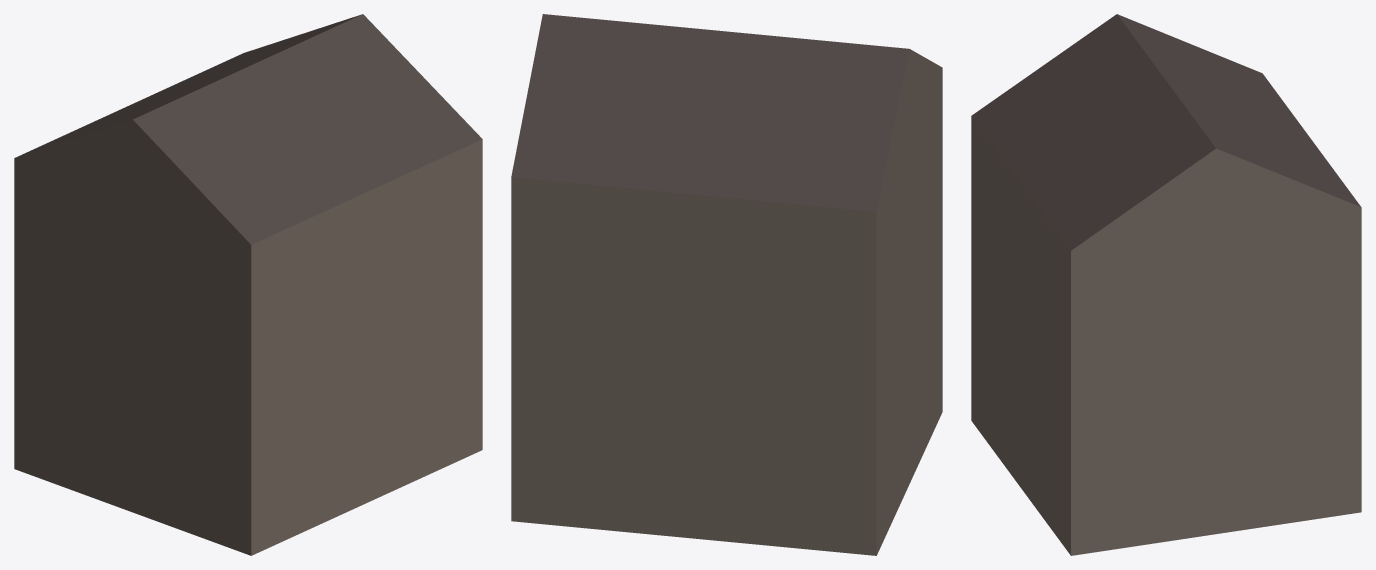
3 renders of one model, left to right at view 1: azimuth 30°, elevation 25°; view 2: azimuth 150°, elevation 25°; view 3: azimuth 270°, elevation 25°, orthographic. The views are drawn at different scales.
Parts seen in each view (by area): view 1: HP-w1196401636; view 2: HP-w1196401636; view 3: HP-w1196401636.
Part boxes in pixels (bbox=[...]): HP-w1196401636: bbox=[14, 14, 482, 555]; HP-w1196401636: bbox=[511, 14, 942, 555]; HP-w1196401636: bbox=[971, 14, 1361, 555].
Bounding box in the file's own units: 7.49 × 7.58 × 6.95.
